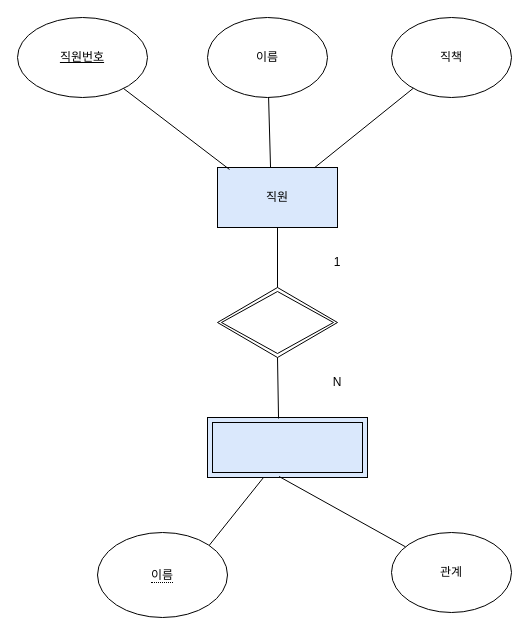
Image size: 529x635. Some labels were removed from this diagram. Here are the shapes that lost their labels. From the top down, the centre of each, then its label:
At [277,322]: "부양".
At [287,447]: "가족".
